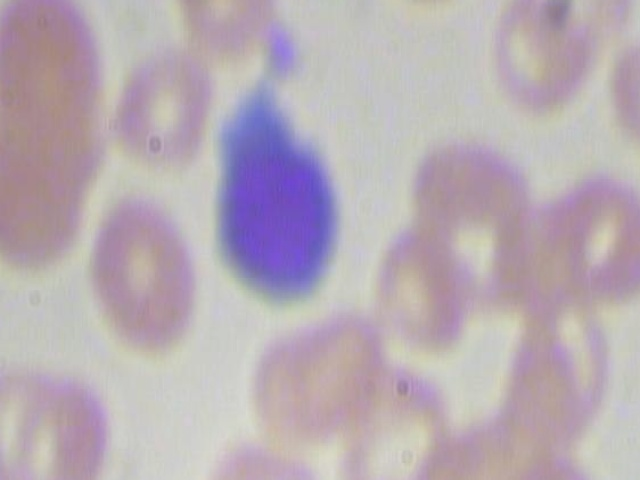Platelets: (258, 15, 299, 84)
WBC: (193, 79, 360, 332)
